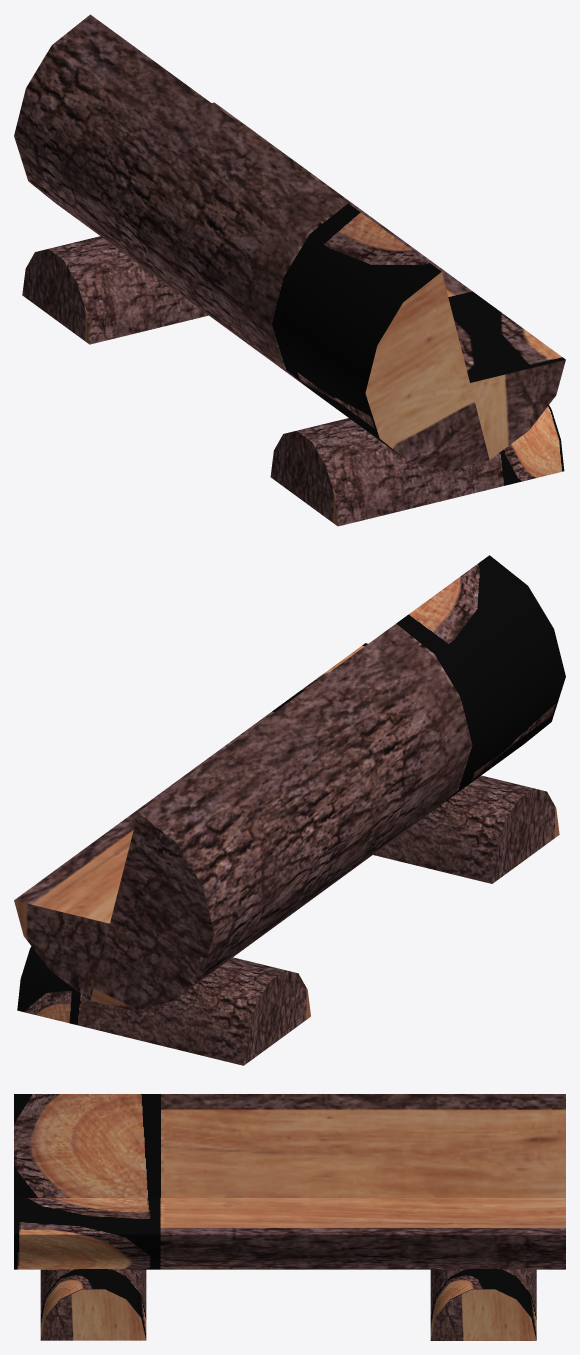
File: bench.fbx
3 views of the same model, one above another, from view 1: azimuth 30°, elevation 25°; view 2: azimuth 150°, elevation 25°; view 3: azimuth 270°, elevation 25° (orthographic). The views are drawn at different scales.
Visible parts, largest first — view 1: fogueira002; view 2: fogueira002; view 3: fogueira002.
Boxes of the visible parts, x1,y1,x2,y2 form: fogueira002: (14, 14, 565, 526); fogueira002: (14, 555, 565, 1065); fogueira002: (14, 1094, 565, 1340).
Size of the model in its own units: 16.22 by 16.83 by 43.57.
